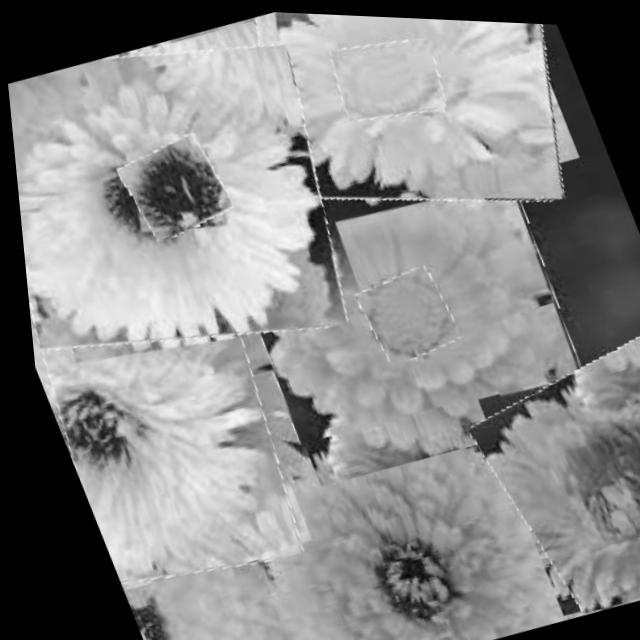Flower: (191, 96, 604, 497), (0, 3, 378, 398), (17, 227, 319, 604), (201, 375, 579, 640), (220, 8, 603, 257), (450, 320, 640, 621), (109, 127, 234, 244), (322, 23, 453, 130), (347, 258, 460, 365)
